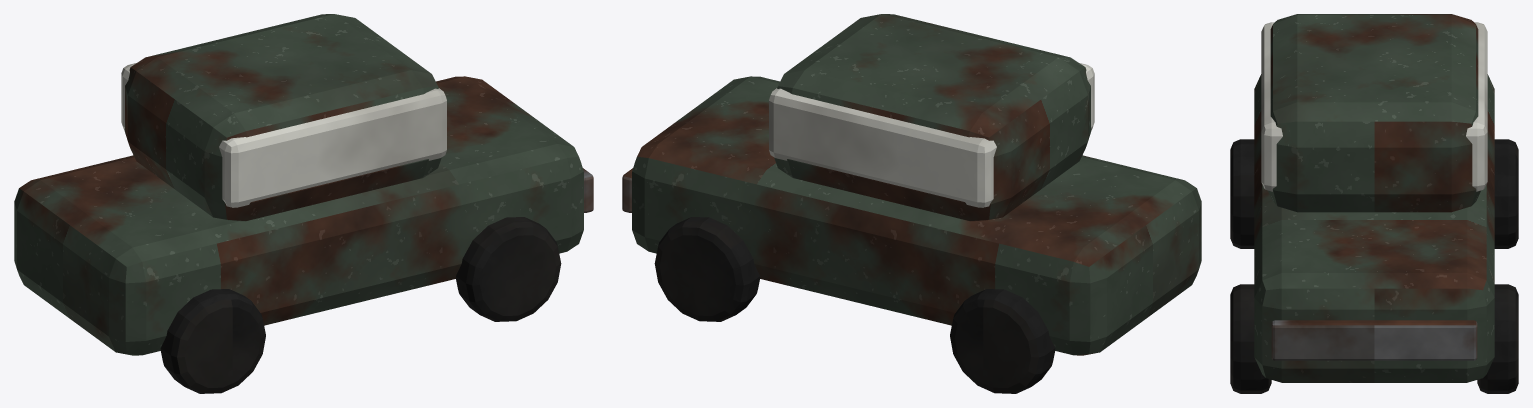
Rendered from T10_toy_car_v3.glb.
The picture shows the model from 3 angles, left to right: view 1: azimuth 30°, elevation 25°; view 2: azimuth 150°, elevation 25°; view 3: azimuth 270°, elevation 25°; orthographic projection.
Parts seen in each view (by area): view 1: T10_toy_car_v3; view 2: T10_toy_car_v3; view 3: T10_toy_car_v3.
Part boxes in pixels (x1,y1,x2,y2): T10_toy_car_v3: (14,14,593,393); T10_toy_car_v3: (622,14,1201,393); T10_toy_car_v3: (1230,14,1518,393).
Size of the model in its own units: 0.2 by 0.0988 by 0.1031.
Materials: 4 (4 with a texture image).
